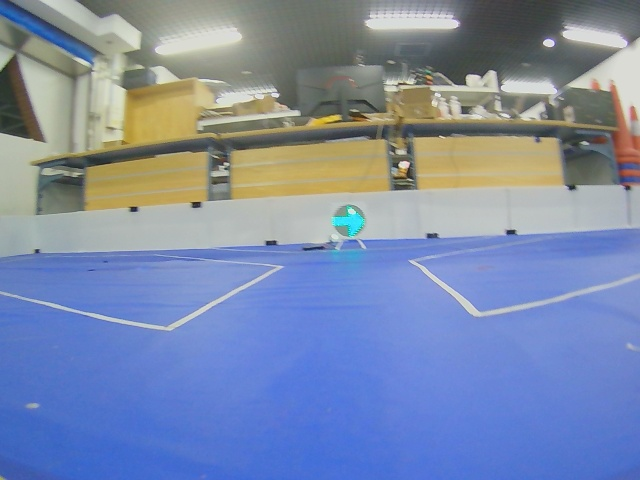right_green: (332, 205, 366, 238)
